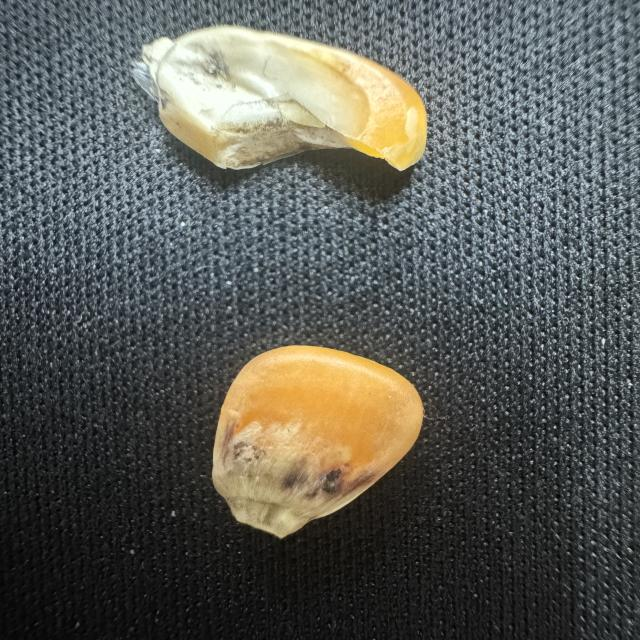Bad-Seed: (128, 21, 434, 182), (205, 340, 429, 543)
